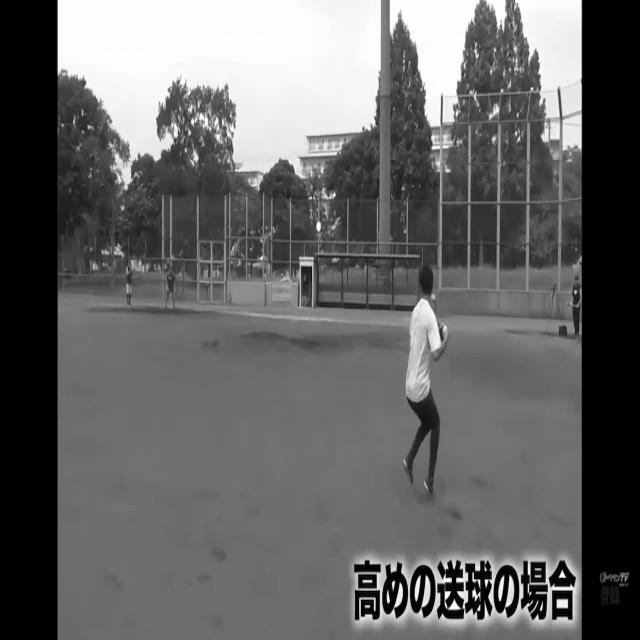baseball: (441, 324, 447, 334)
shoe: (402, 456, 416, 490), (425, 482, 440, 505)
